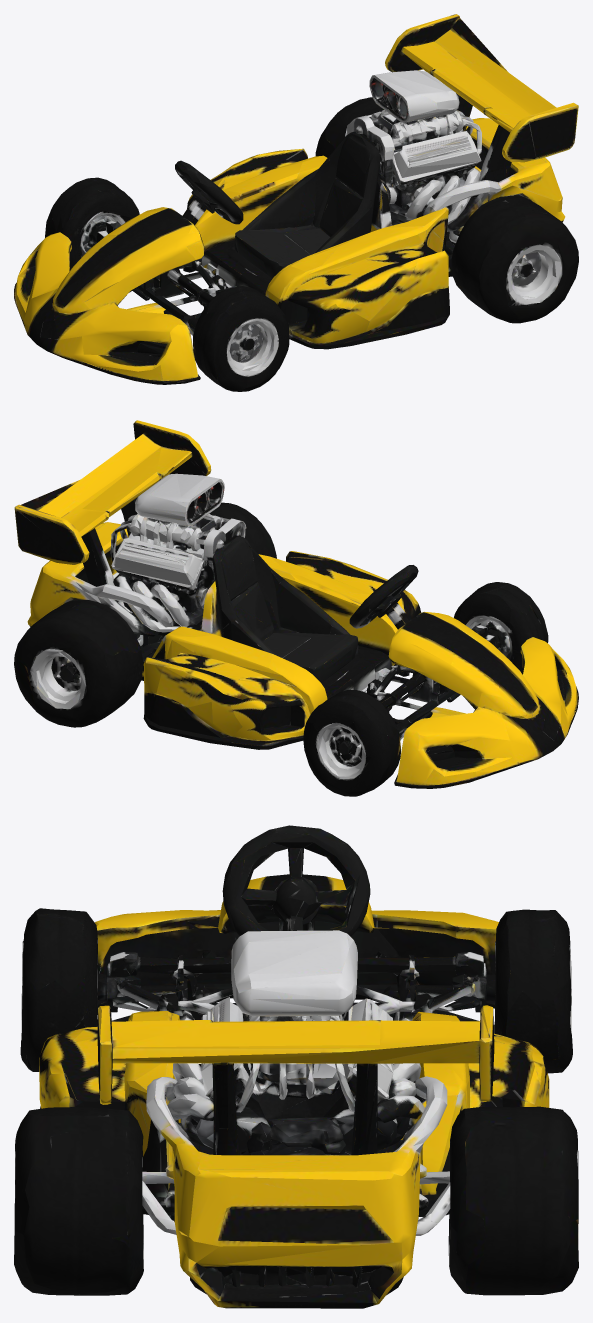
Rendered from k_yellow.glb.
The picture shows the model from 3 angles, top to bottom: view 1: azimuth 30°, elevation 25°; view 2: azimuth 150°, elevation 25°; view 3: azimuth 270°, elevation 25°; orthographic projection. The views are drawn at different scales.
Size of the model in its own units: 1.9 by 0.7058 by 1.17.
1 material, 1 textured.
